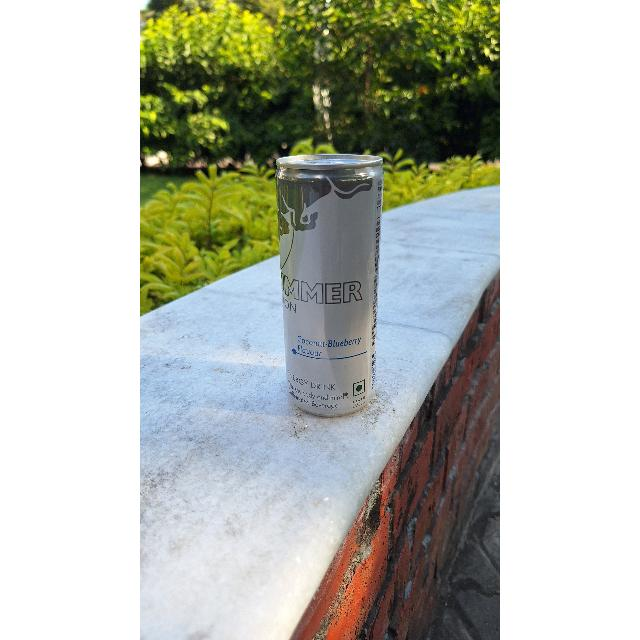Redbull Summer Edition: (272, 146, 383, 420)
